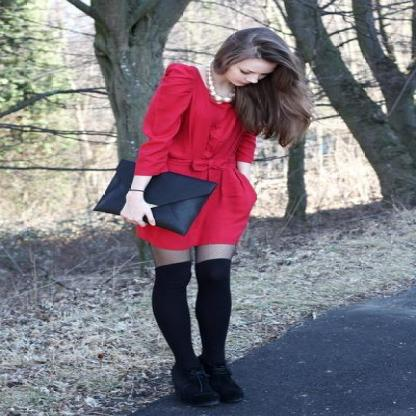bag: (94, 157, 211, 235)
dress: (134, 63, 261, 250)
shoe: (166, 361, 242, 407)
